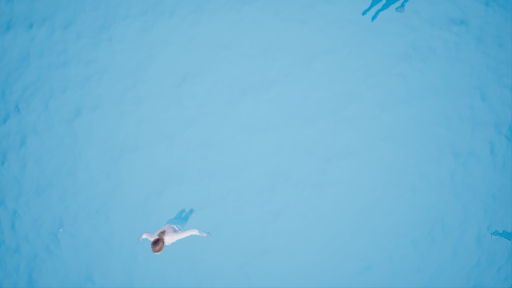person: (128, 210, 224, 255)
